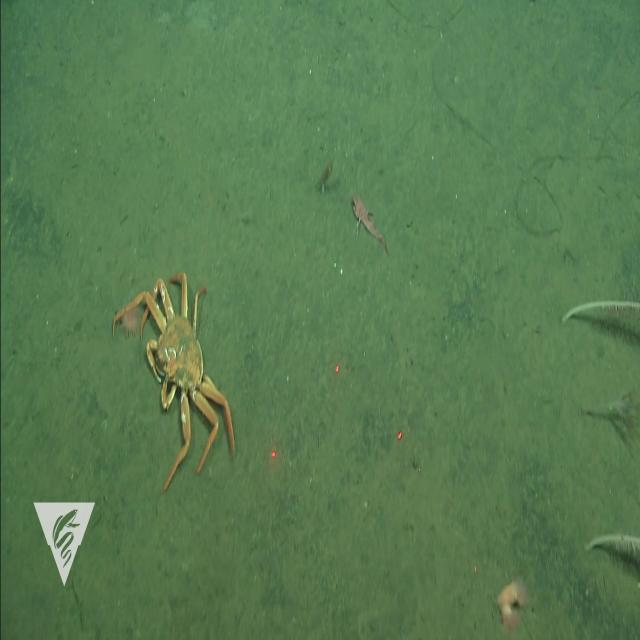Not Brittle Star: (150, 308, 208, 397), (348, 187, 389, 252), (494, 569, 528, 634), (609, 381, 640, 445), (597, 289, 640, 324), (603, 523, 640, 563), (318, 156, 335, 196), (269, 445, 278, 462), (396, 427, 404, 442), (334, 362, 341, 374)
